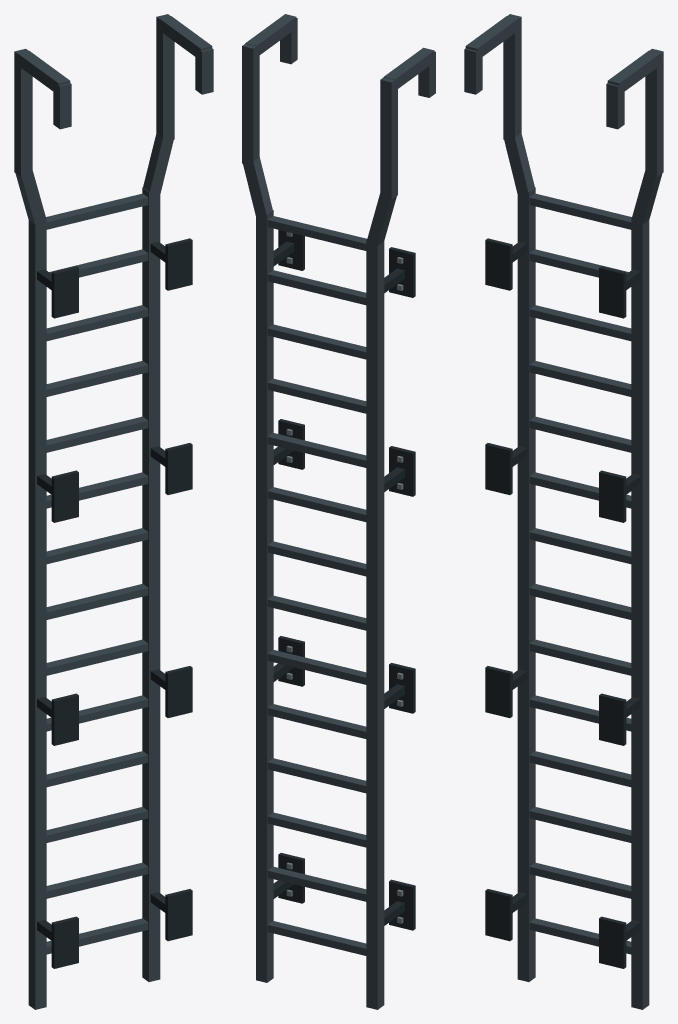
File: roof_access_ladder.obj
3 renders of one model, left to right at view 1: azimuth 30°, elevation 25°; view 2: azimuth 150°, elevation 25°; view 3: azimuth 330°, elevation 25°, orthographic. The views are drawn at different scales.
Visible parts, largest first — view 1: Rail_-1, Rail_1, Handrail_upper_-1, Handrail_upper_1, Rung_10, Rung_12, Rung_14, Rung_02, Rung_04, Rung_06, Rung_08, Rung_11 (+20 smaller); view 2: Rail_-1, Rail_1, Handrail_upper_-1, Handrail_upper_1, Rung_03, Rung_07, Rung_10, Rung_11, Rung_12, Rung_02, Rung_04, Rung_08 (+21 smaller); view 3: Rail_1, Rail_-1, Handrail_upper_1, Handrail_upper_-1, Rung_10, Rung_12, Rung_14, Rung_02, Rung_04, Rung_06, Rung_08, Rung_11 (+20 smaller).
Boxes of the visible parts, box(x1,y1,x2,y2) form: Rail_-1: box(28, 217, 46, 1009); Rail_1: box(142, 187, 160, 981); Handrail_upper_-1: box(14, 48, 32, 176); Handrail_upper_1: box(156, 14, 174, 141); Rung_10: box(46, 416, 148, 452); Rung_12: box(46, 305, 148, 341); Rung_14: box(46, 193, 148, 229); Rung_02: box(46, 862, 148, 898); Rung_04: box(46, 751, 148, 787); Rung_06: box(46, 639, 148, 675); Rung_08: box(46, 528, 148, 564); Rung_11: box(46, 360, 148, 396); Rail_-1: box(366, 239, 384, 1009); Rail_1: box(256, 210, 273, 982); Handrail_upper_-1: box(380, 77, 397, 199); Handrail_upper_1: box(242, 43, 259, 165); Rung_03: box(267, 812, 366, 847); Rung_07: box(267, 595, 366, 630); Rung_10: box(267, 433, 366, 467); Rung_11: box(267, 378, 366, 413); Rung_12: box(267, 324, 366, 359); Rung_02: box(267, 866, 366, 901); Rung_04: box(267, 758, 366, 793); Rung_08: box(267, 541, 366, 576); Rail_1: box(631, 217, 649, 1009); Rail_-1: box(517, 187, 535, 981); Handrail_upper_1: box(645, 48, 663, 176); Handrail_upper_-1: box(503, 14, 521, 141); Rung_10: box(529, 416, 631, 452); Rung_12: box(529, 305, 631, 341); Rung_14: box(529, 193, 631, 229); Rung_02: box(529, 862, 631, 898); Rung_04: box(529, 751, 631, 787); Rung_06: box(529, 639, 631, 675); Rung_08: box(529, 528, 631, 564); Rung_11: box(529, 360, 631, 396).
Size of the model in its own units: 0.865 by 5.15 by 0.445.
